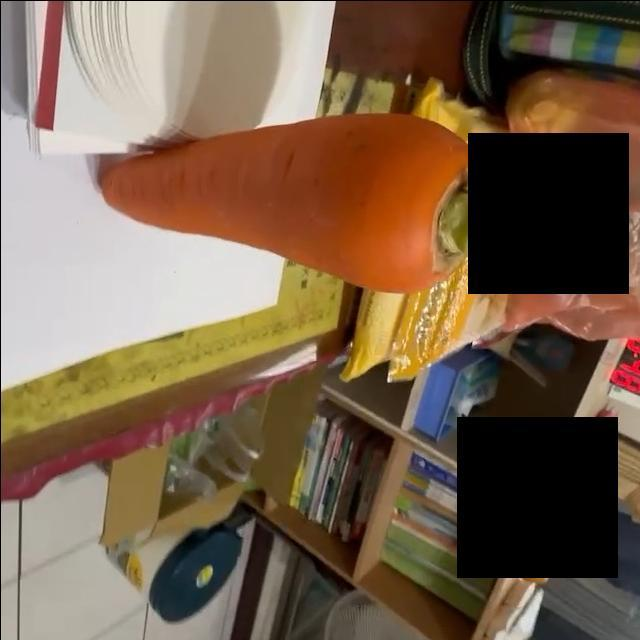carrot: (100, 112, 516, 294)
